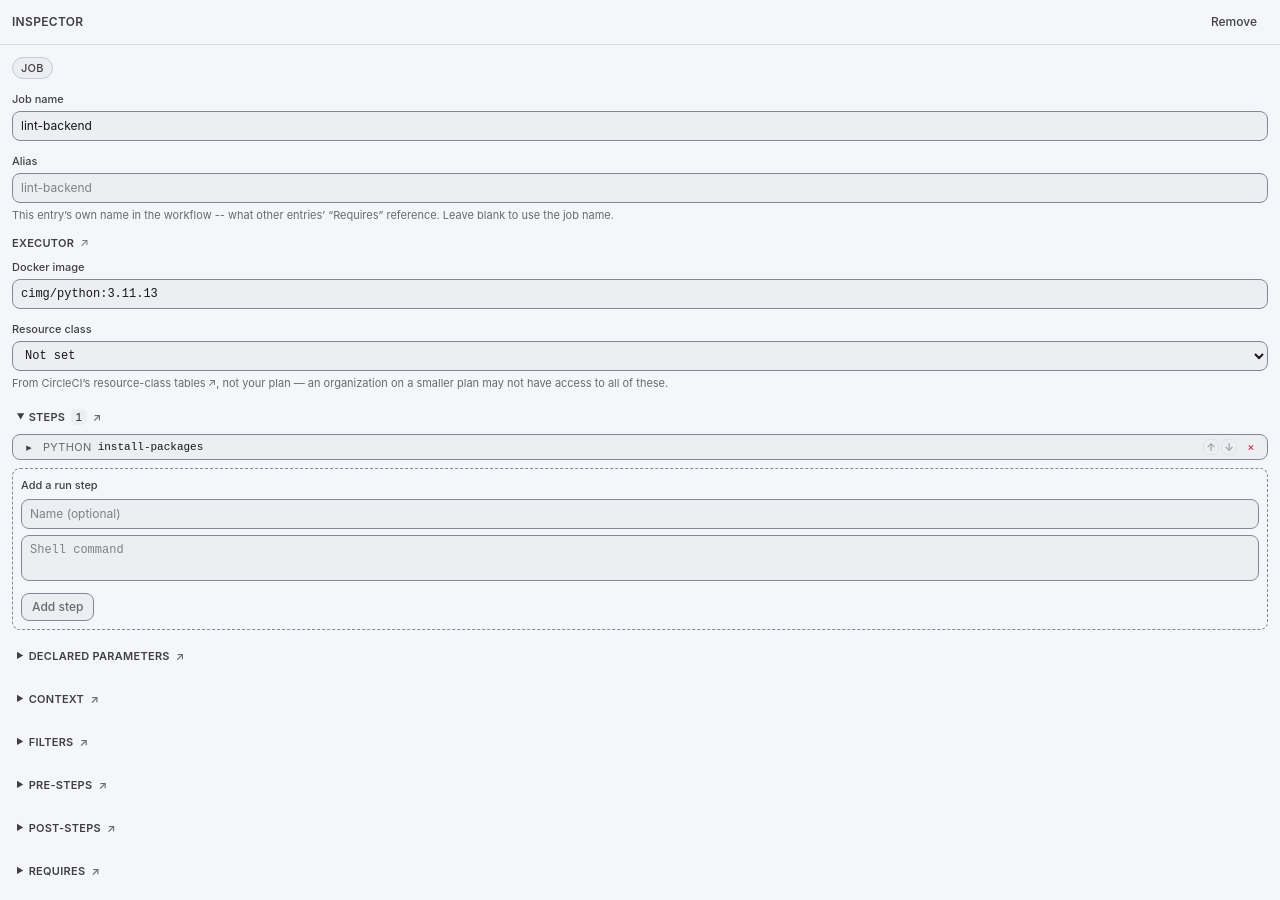
Inspector › orb step parameters (issue #28) › lists an orb command's parameters collapsed by default, then shows them on expand
Check: the field labelled "pkg-manager" is not shown
Click the button named "expand install-packages" at (29, 447), box [21,439,37,455]
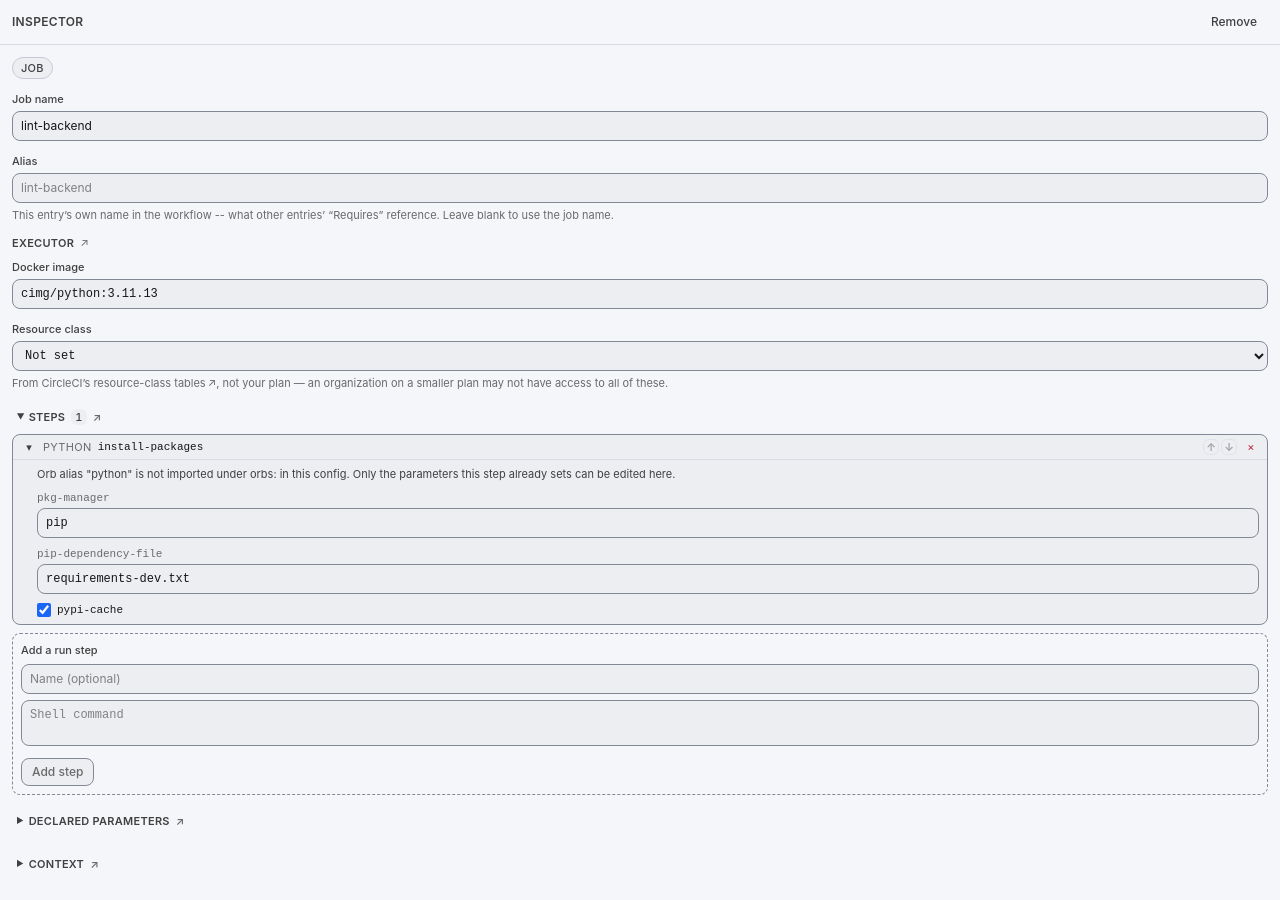
Check: the field labelled "pkg-manager" holds "pip", box [37,508,1259,538]
Check: the field labelled "pip-dependency-file" holds "requirements-dev.txt", box [37,564,1259,594]
Check: the checkbox is checked, box [37,603,51,617]
